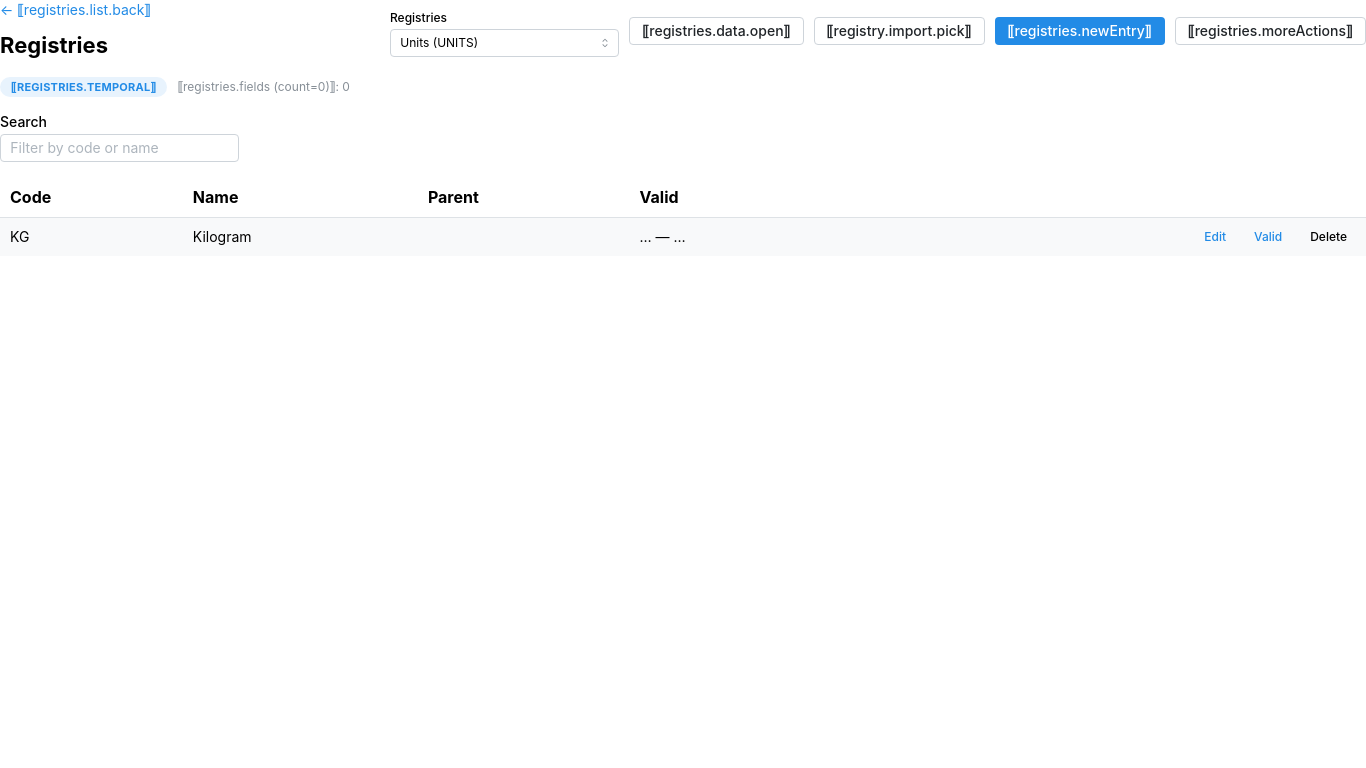
Видалення запису довідника з інтерфейсу › діалог називає запис і ставить фокус на «Cancel», а не на хрестик (X-23)
Expected: the text "Kilogram" is shown, [193,228,252,245]
Click the button "Delete" at (1329, 237), box [1301,225,1356,249]
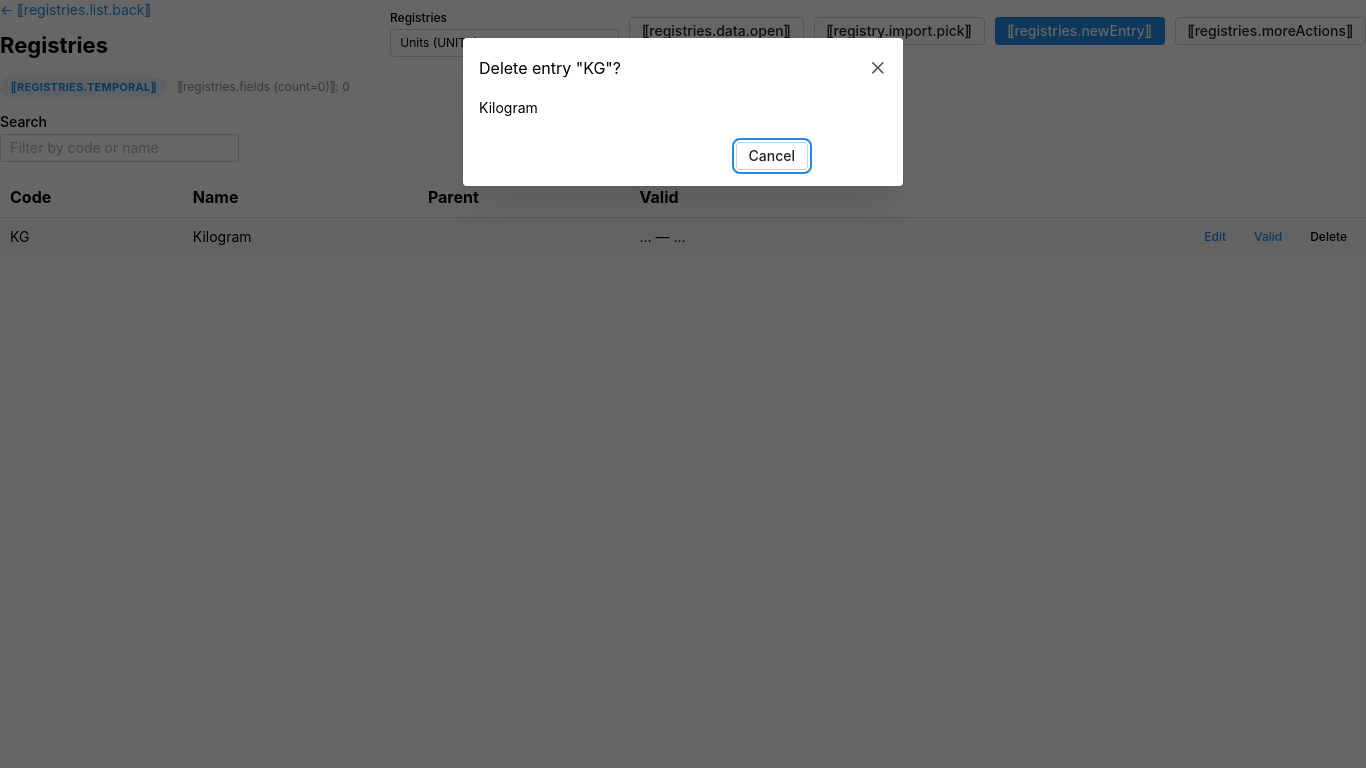
Expected: the heading "Delete entry \"KG\"?" is shown, [479,60,621,76]
